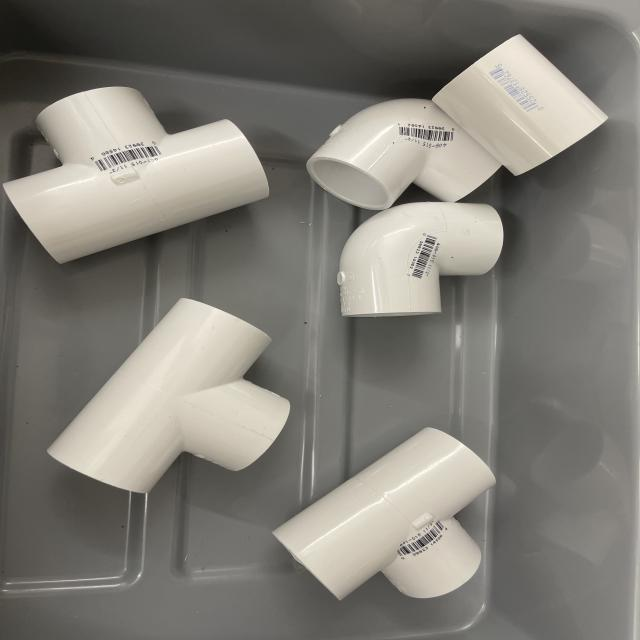L Joint: (305, 99, 501, 212), (336, 204, 504, 320)
T Joint: (47, 298, 291, 495), (2, 87, 270, 265), (271, 427, 497, 602)
